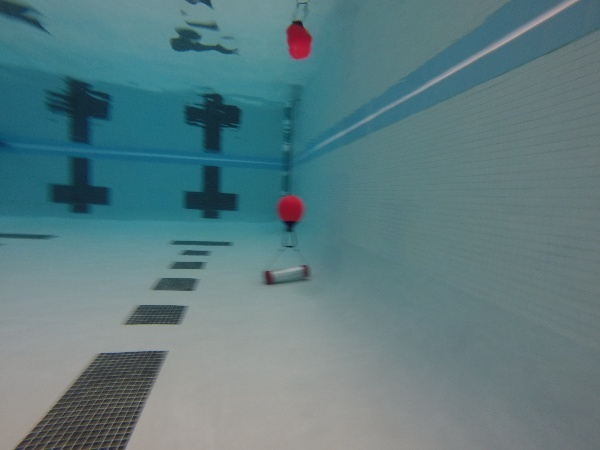buoy_red: (275, 193, 306, 232)
